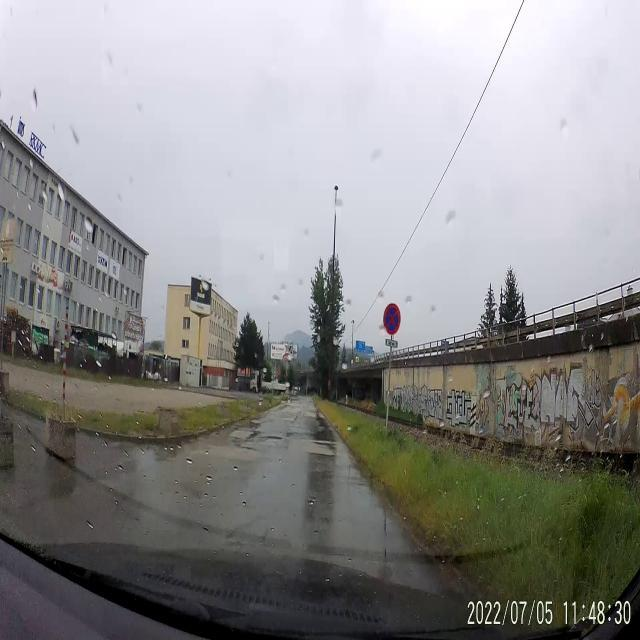Pothole: (228, 444, 260, 456), (257, 434, 282, 444), (313, 438, 337, 448)
